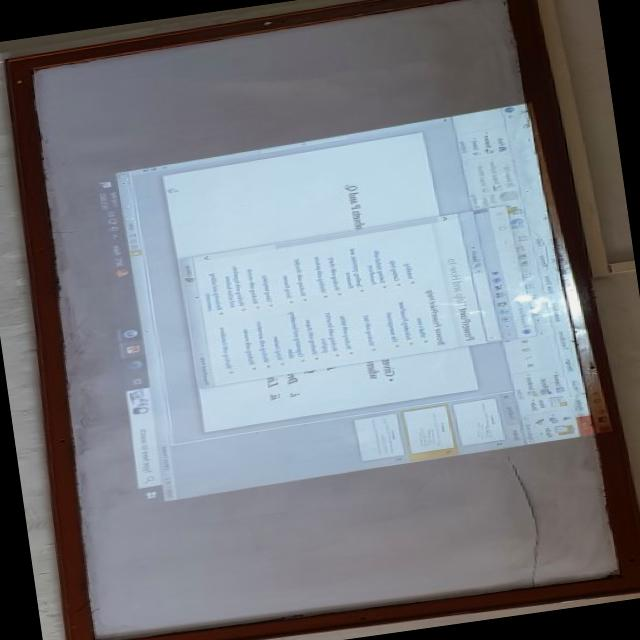Slide: (87, 103, 613, 508)
White-board: (20, 0, 637, 640)
